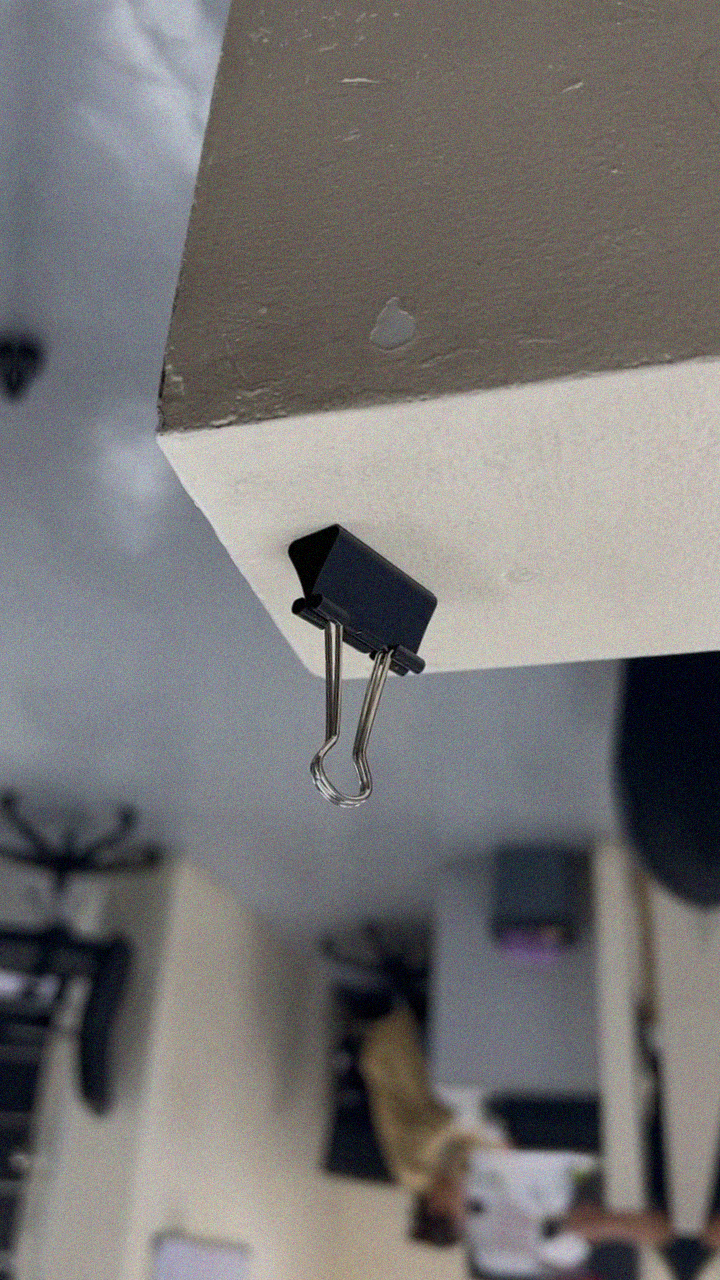kep_giay: (265, 516, 453, 814)
